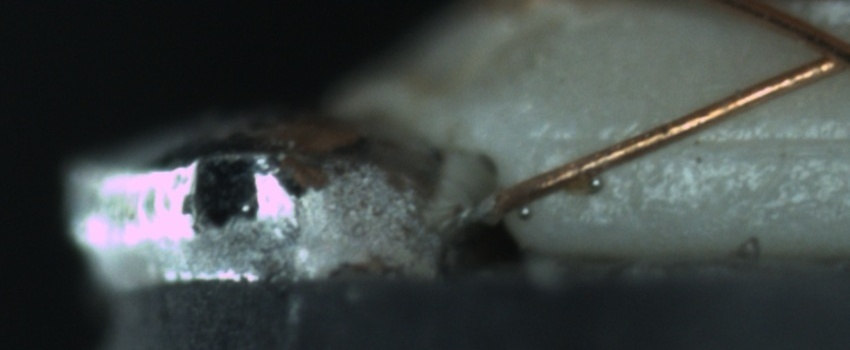CL: (795, 20, 849, 79)
DL: (550, 112, 850, 171)
